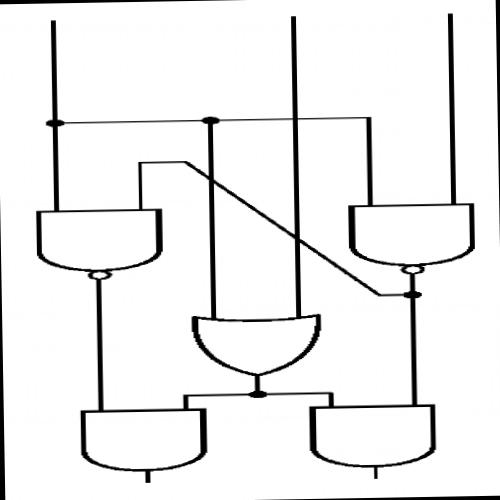and: (58, 398, 223, 480), (294, 396, 454, 474)
nand: (20, 196, 180, 288), (329, 188, 486, 280)
nor: (177, 301, 333, 384)
